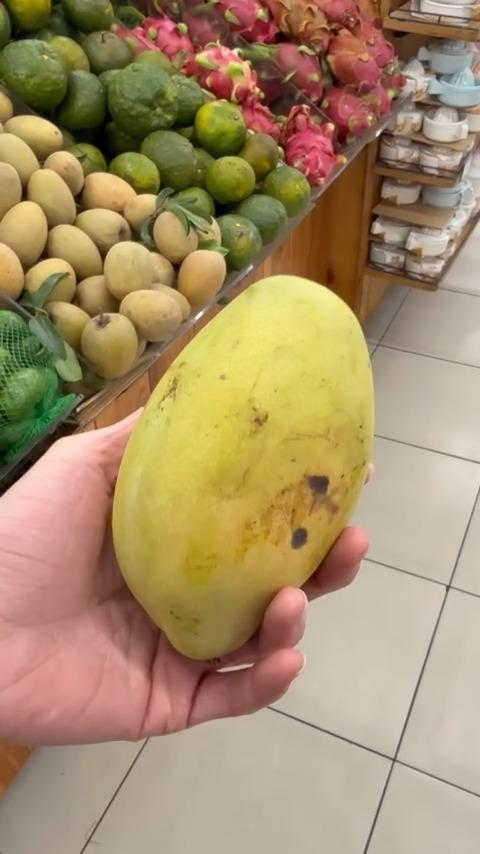mango: (103, 269, 375, 666)
